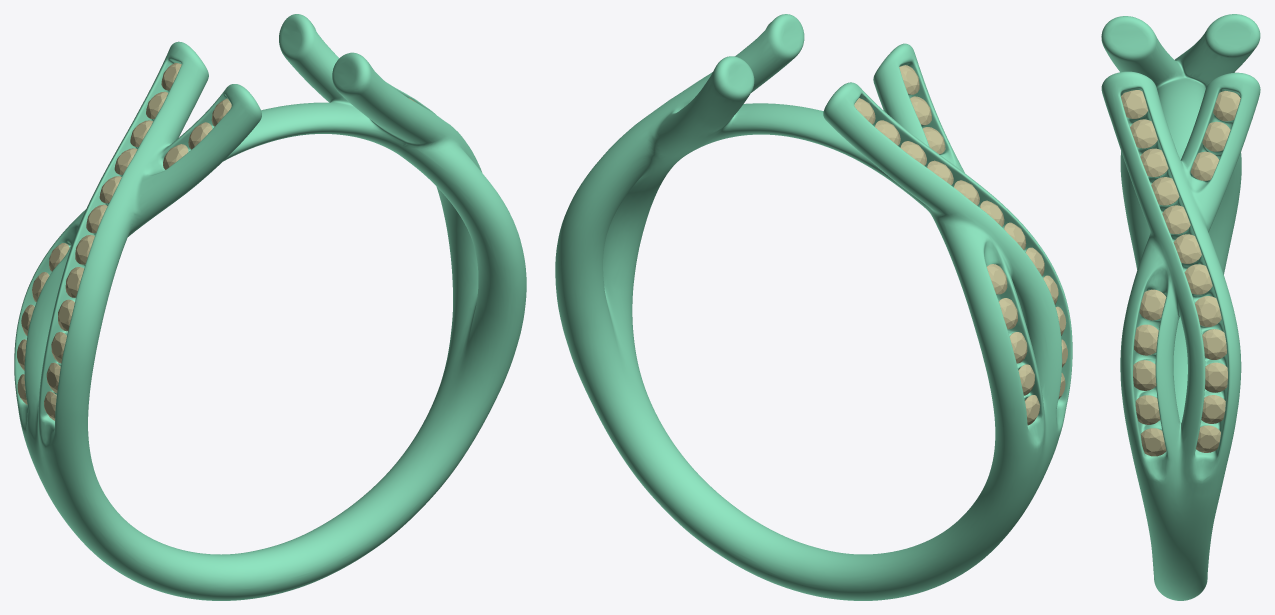
3 views of the same model, side by side, from view 1: azimuth 30°, elevation 25°; view 2: azimuth 150°, elevation 25°; view 3: azimuth 270°, elevation 25° (orthographic).
Parts seen in each view (by area): view 1: Metal02; view 2: Metal02; view 3: Metal02, Diamond_Gem.020, Diamond_Gem.019, Diamond_Gem.027, Diamond_Gem.029, Diamond_Gem.028, Diamond_Gem.035, Diamond_Gem.021, Diamond_Gem.036, Diamond_Gem.026, Diamond_Gem.022, Diamond_Gem.030 (+9 smaller).
Boxes of the visible parts, x1,y1,x2,y2 form: Metal02: (14, 14, 526, 600); Metal02: (555, 14, 1072, 600); Metal02: (1101, 14, 1260, 600); Diamond_Gem.020: (1134, 324, 1158, 355); Diamond_Gem.019: (1139, 289, 1166, 320); Diamond_Gem.027: (1202, 329, 1226, 359); Diamond_Gem.029: (1184, 264, 1212, 294); Diamond_Gem.028: (1195, 296, 1221, 326); Diamond_Gem.035: (1213, 91, 1240, 121); Diamond_Gem.021: (1133, 360, 1156, 390); Diamond_Gem.036: (1202, 121, 1230, 151); Diamond_Gem.026: (1205, 362, 1227, 392); Diamond_Gem.022: (1135, 395, 1160, 424); Diamond_Gem.030: (1173, 234, 1201, 263).
Bounding box in the file's own units: 20.9 × 22.68 × 6.14.
